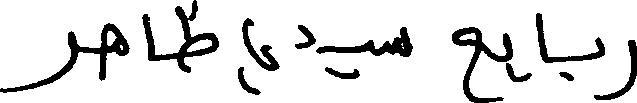X: (0, 26, 77, 97), (177, 0, 217, 77), (242, 13, 277, 99), (454, 22, 482, 102), (606, 35, 636, 102), (102, 18, 128, 84), (387, 22, 410, 61), (536, 8, 548, 67), (594, 32, 604, 102), (503, 28, 512, 102), (143, 9, 154, 65), (296, 20, 313, 53), (364, 35, 374, 59)
